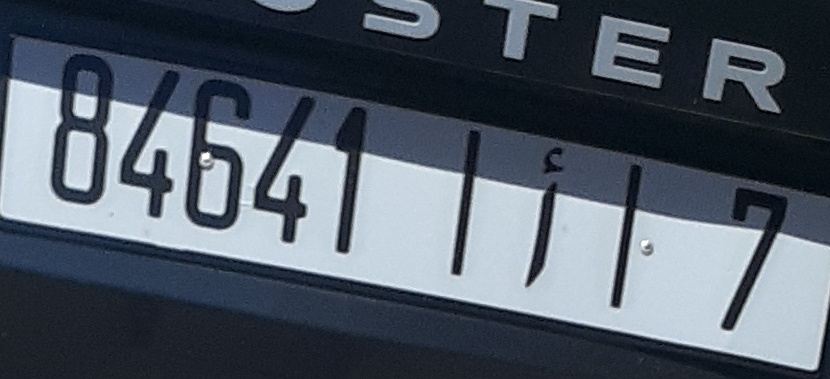1: (320, 106, 391, 265)
4: (113, 64, 185, 216), (250, 98, 317, 246)
6: (182, 77, 249, 231)
7: (711, 178, 793, 331)
8: (45, 46, 110, 213)
a: (515, 139, 570, 297)
